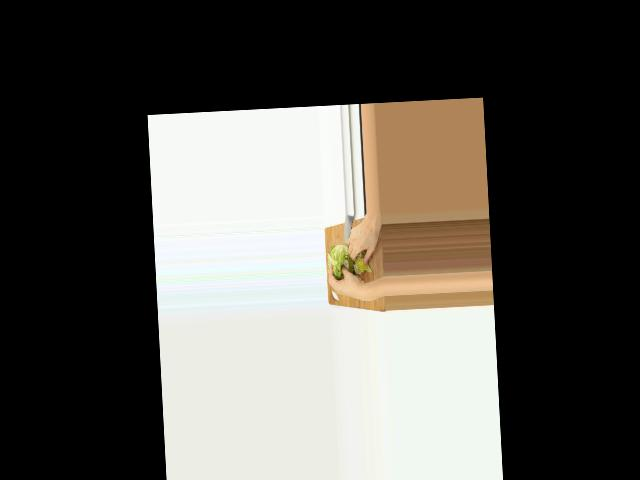lettuce: (328, 243, 352, 278)
